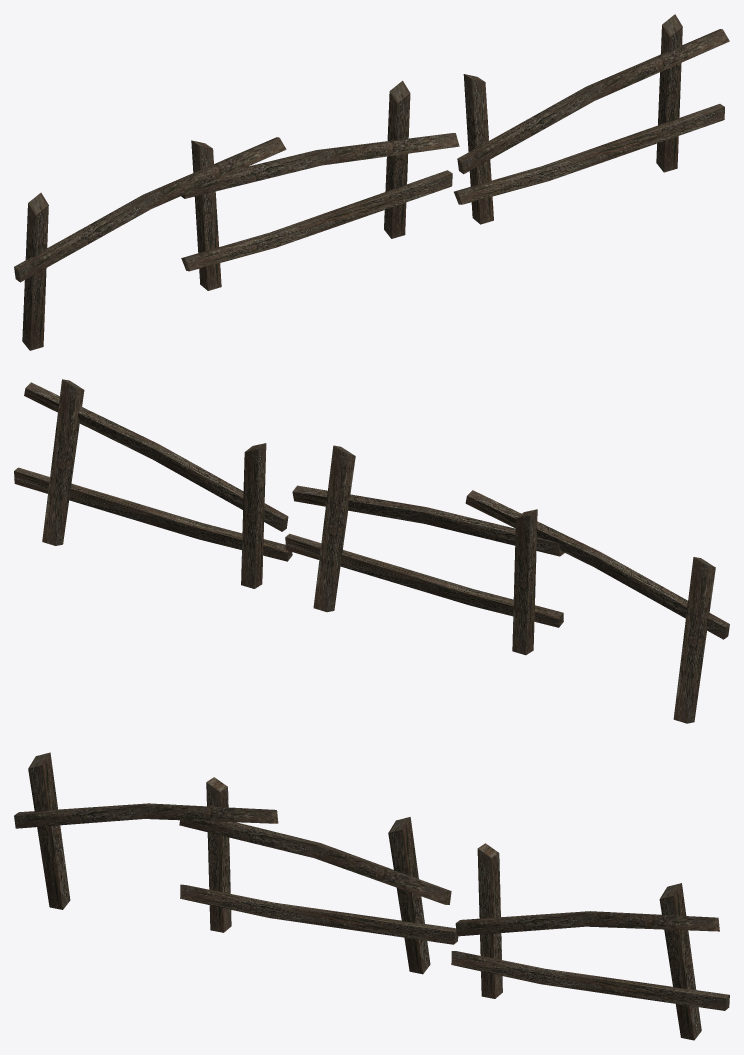
The model's file is plot3.glb.
3 renders of one model, top to bottom at view 1: azimuth 30°, elevation 25°; view 2: azimuth 150°, elevation 25°; view 3: azimuth 330°, elevation 25°, orthographic.
Visible parts, largest first — view 1: zengin; view 2: zengin; view 3: zengin.
Part boxes in pixels (left/top/right/bottom): zengin: left=14, top=14, right=729, bottom=350; zengin: left=14, top=379, right=729, bottom=723; zengin: left=14, top=752, right=729, bottom=1040.
Bounding box in the file's own units: 8.36 × 2.07 × 0.4867.
Materials: 1 (1 with a texture image).
